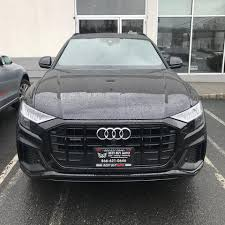audi: (93, 125, 135, 144)
